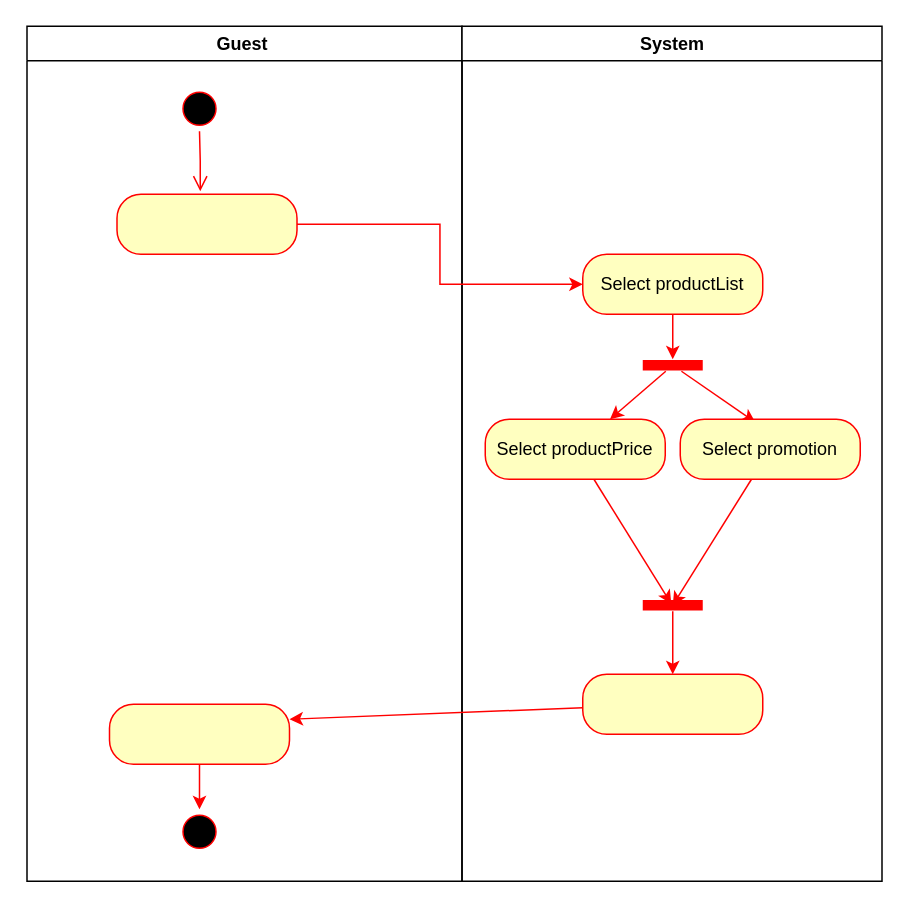
Image size: 908x908. Some labels were removed from this diagram. The centre of each missing label's shape, as x and y in pixels:
display product: pixel 672 703
Select productType: pixel 206 223
View productList: pixel 199 733
